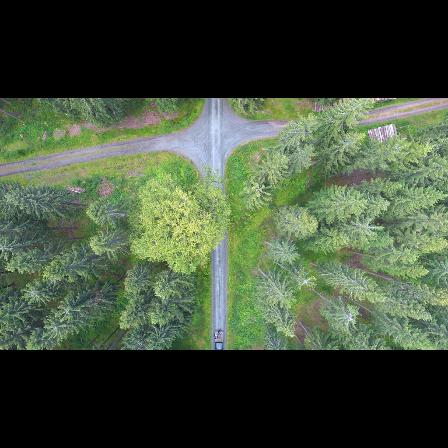Sick: (19, 286, 49, 309), (356, 216, 381, 242), (39, 319, 72, 338), (294, 270, 319, 294)
